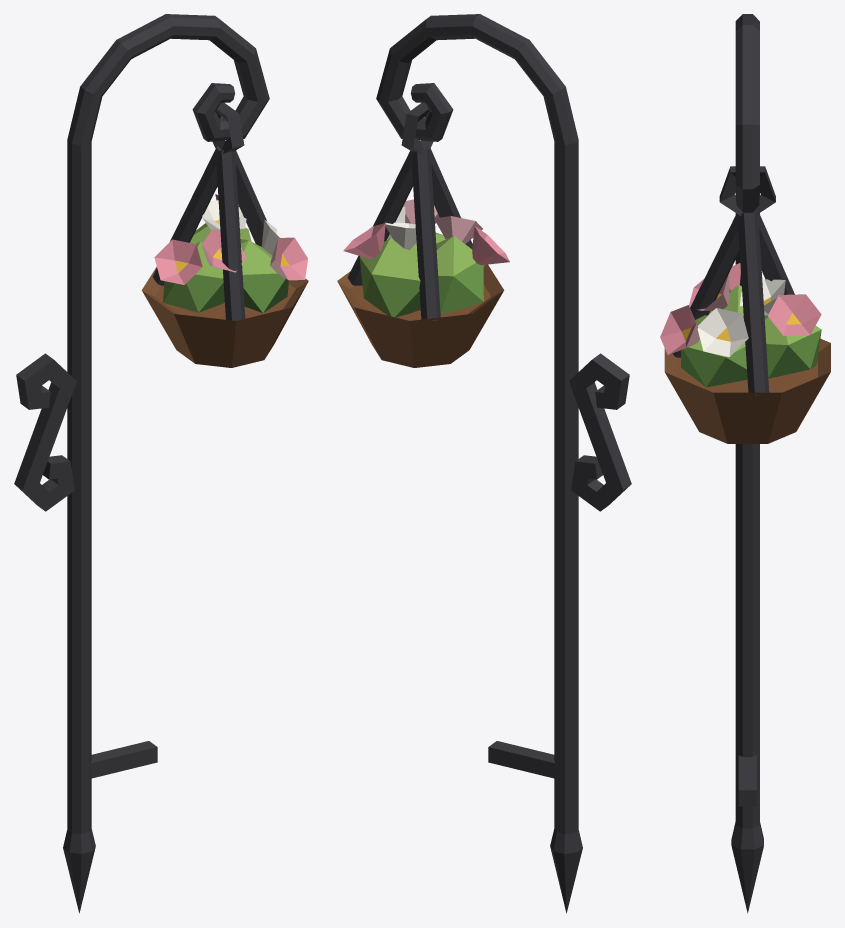
The model's file is FMS_Garden_Shepherd_Hook.fbx.
3 renders of one model, left to right at view 1: azimuth 30°, elevation 25°; view 2: azimuth 150°, elevation 25°; view 3: azimuth 270°, elevation 25°, orthographic. The views are drawn at different scales.
Visible parts, largest first — view 1: FMS_Garden_Shepherd_Hook_Body, Hanging; view 2: FMS_Garden_Shepherd_Hook_Body, Hanging; view 3: Hanging, FMS_Garden_Shepherd_Hook_Body.
Part boxes in pixels (x1,y1,x2,y2): FMS_Garden_Shepherd_Hook_Body: [14, 14, 269, 913]; Hanging: [141, 102, 308, 367]; FMS_Garden_Shepherd_Hook_Body: [376, 14, 631, 913]; Hanging: [337, 102, 509, 367]; Hanging: [660, 166, 830, 443]; FMS_Garden_Shepherd_Hook_Body: [731, 14, 763, 913].
Bounding box in the file's own units: 0.5571 × 1.7 × 0.2815.
